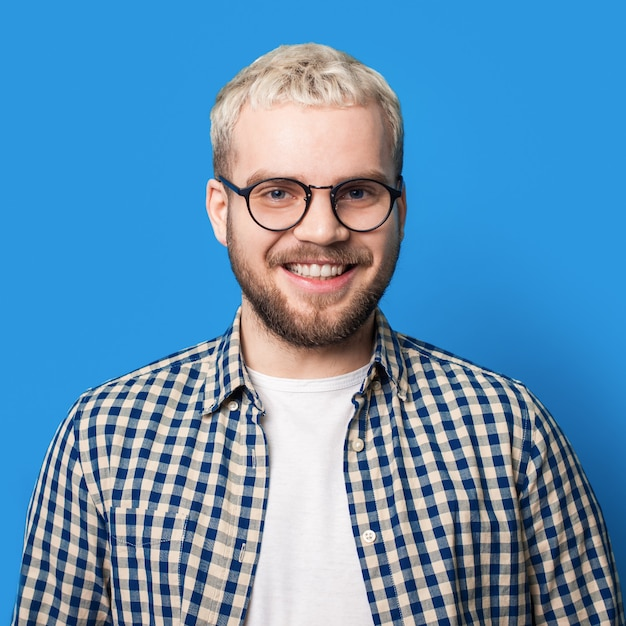young: (217, 30, 421, 348)
